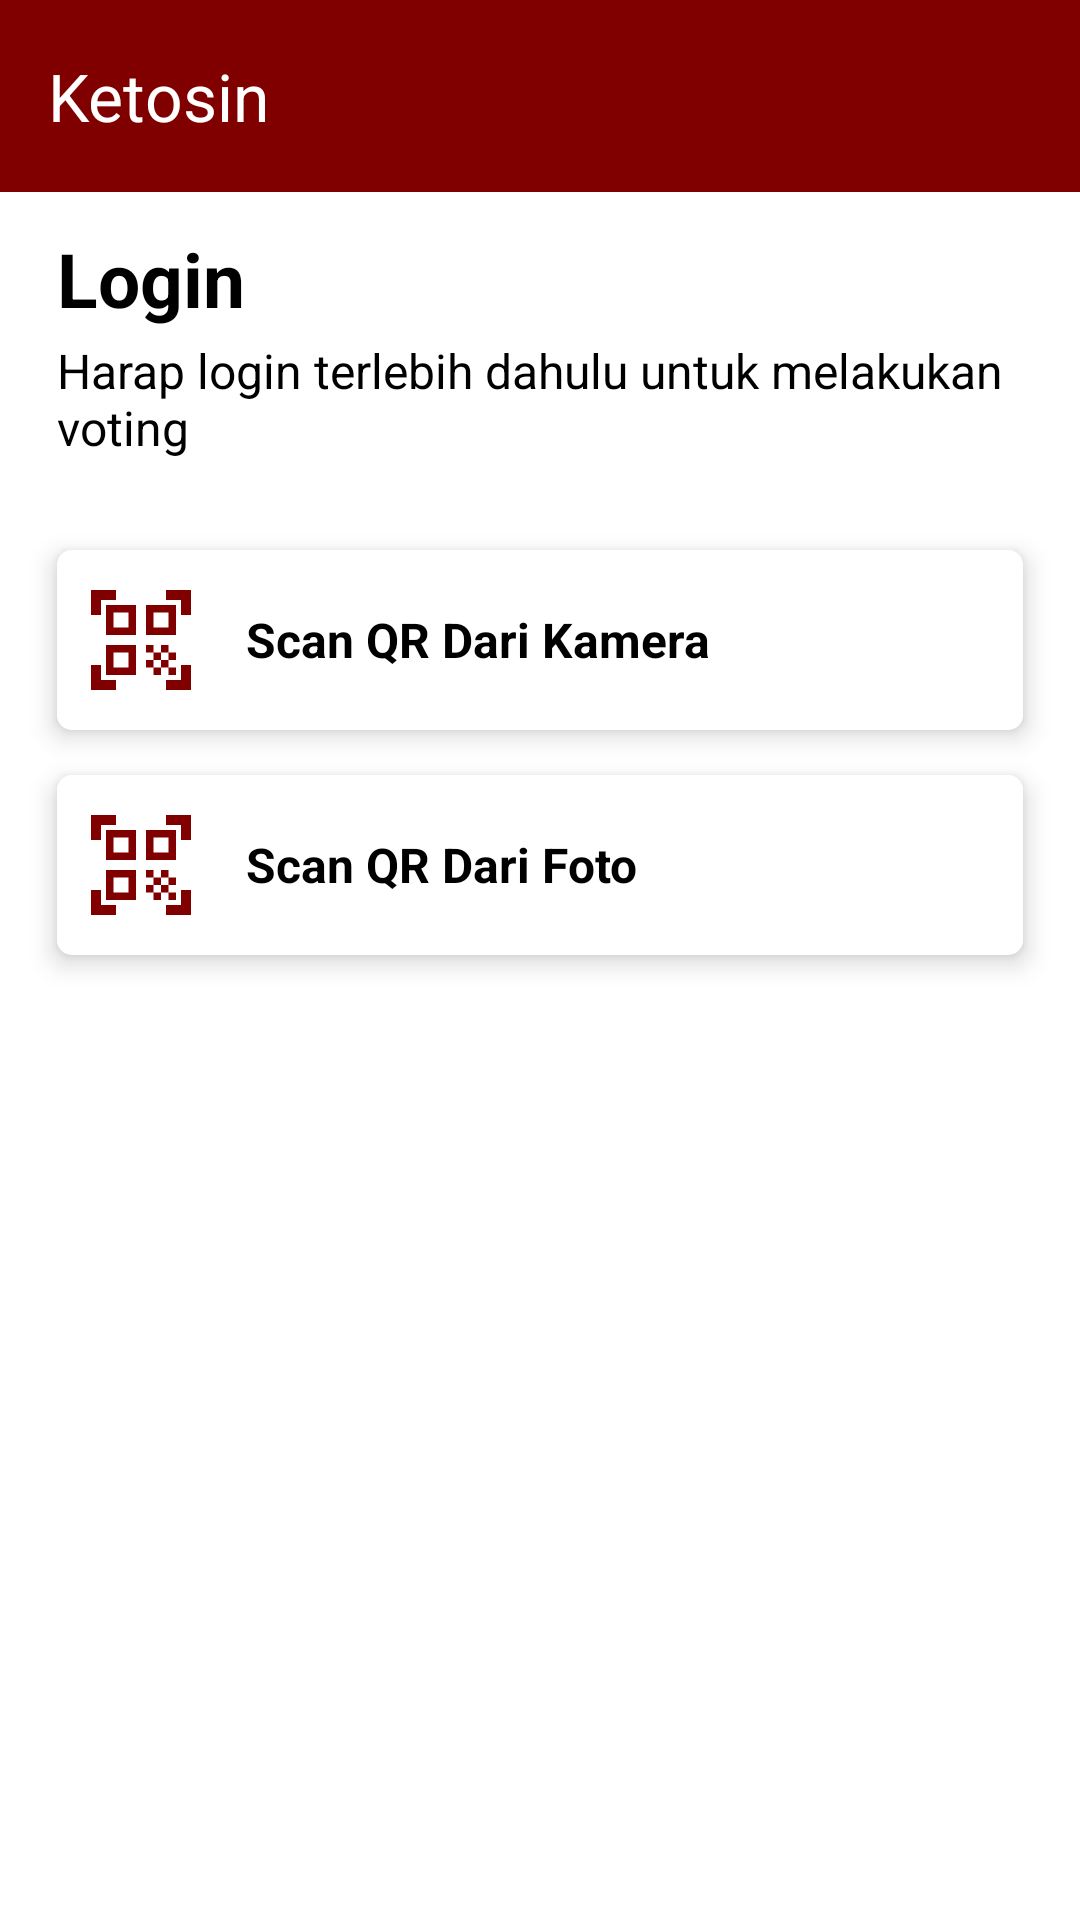

Icons on this 1080×1920 Android screen, each with the point to tap as (x,y):
barcode: (141,640), (141,865)
